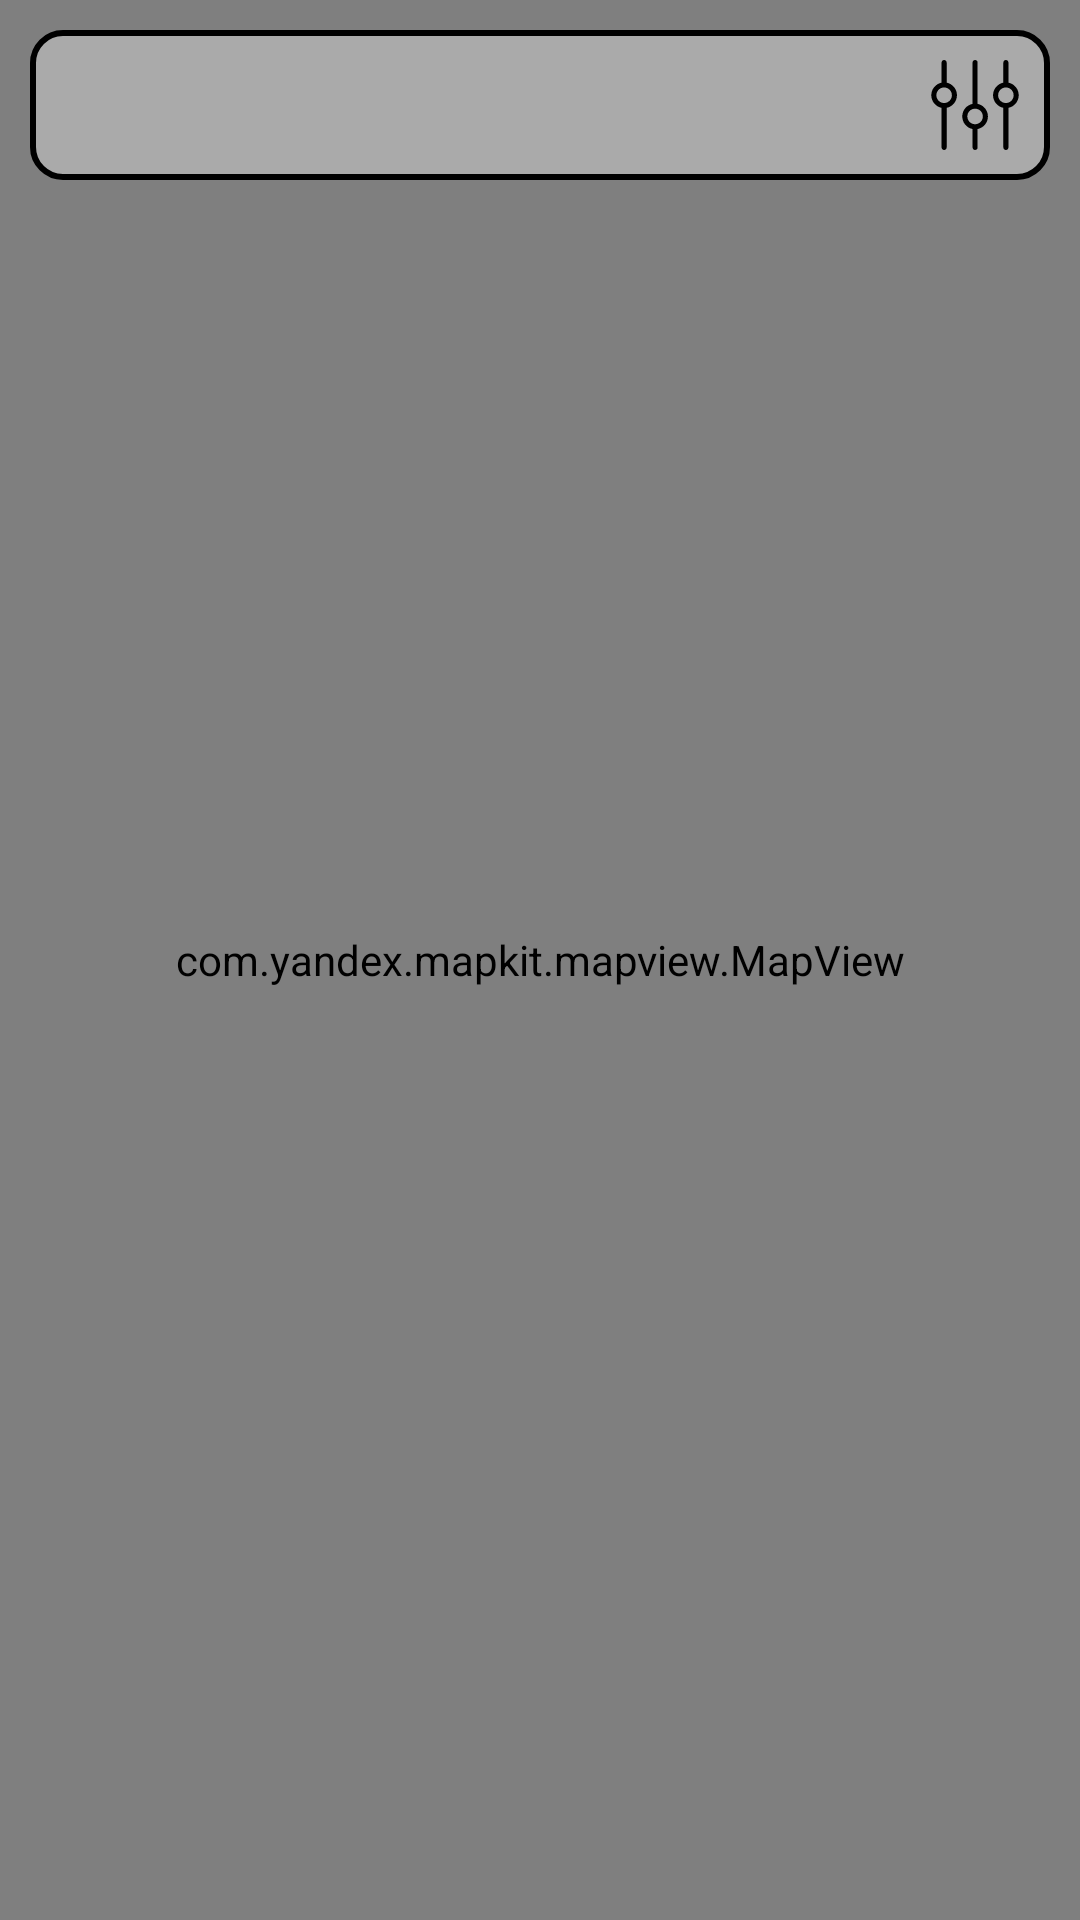

Screen size 1080w x 1920h. Icon name, then its center in pixels as [x,y]:
settings: [975,105]
